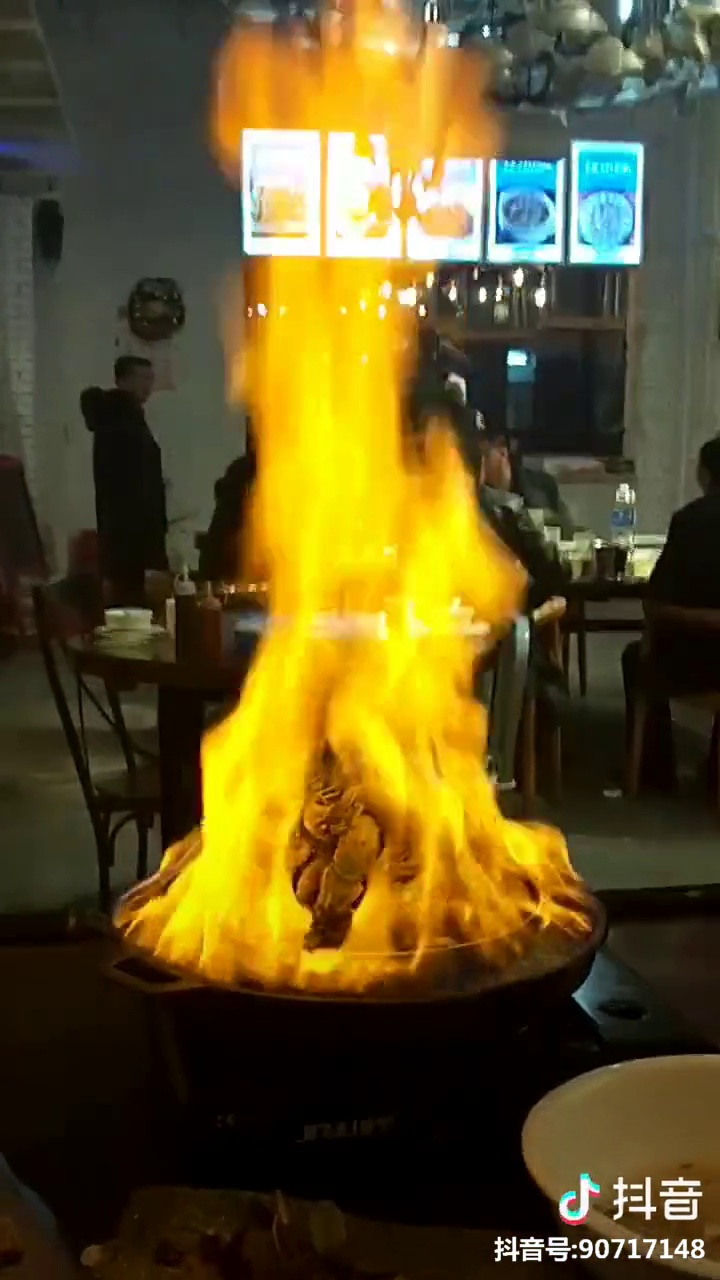fire: (176, 269, 562, 973)
